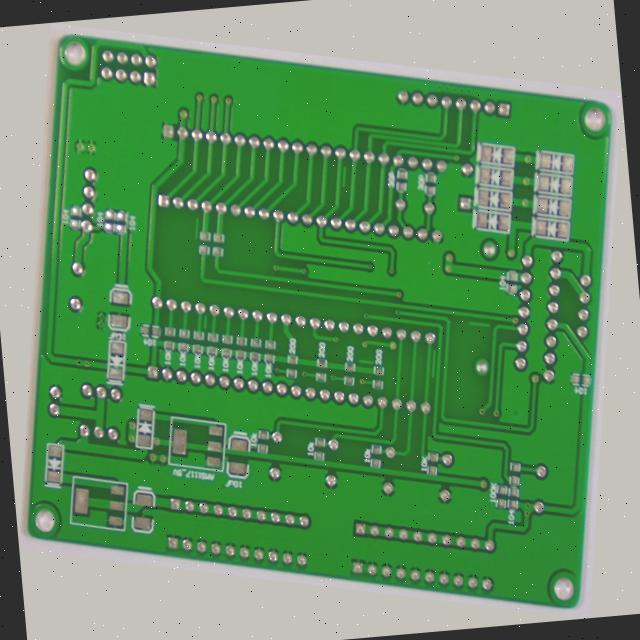spurious_copper: (443, 322, 461, 365), (480, 276, 511, 296), (162, 222, 176, 255), (314, 126, 328, 157), (367, 350, 388, 367)
